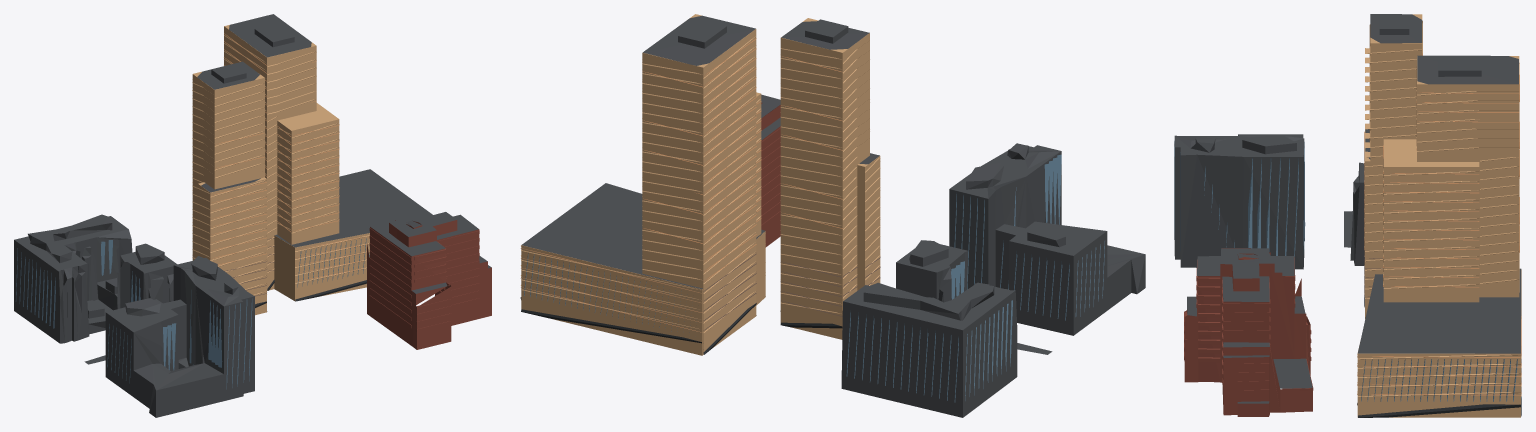
File: symphony.lod1.glb
3 renders of one model, left to right at view 1: azimuth 30°, elevation 25°; view 2: azimuth 150°, elevation 25°; view 3: azimuth 270°, elevation 25°, orthographic. The views are drawn at different scales.
Parts seen in each view (by area): view 1: symphony; view 2: symphony; view 3: symphony.
Boxes of the visible parts, <box> form: symphony: <box>14,14,491,417</box>; symphony: <box>520,14,1145,417</box>; symphony: <box>1174,14,1521,417</box>.
Size of the model in its own units: 167 by 105 by 117.
